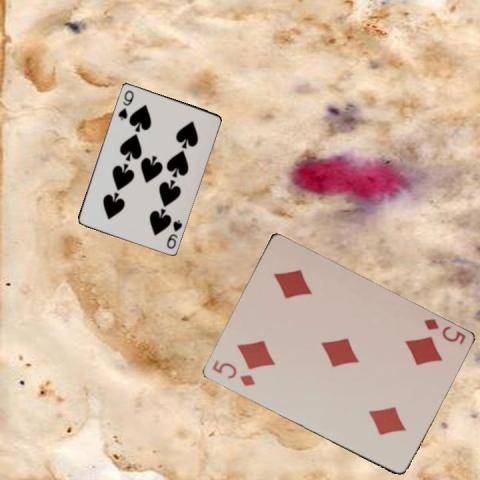5d: (208, 357, 256, 388), (420, 315, 467, 346)
9s: (116, 88, 136, 122), (164, 216, 184, 250)
